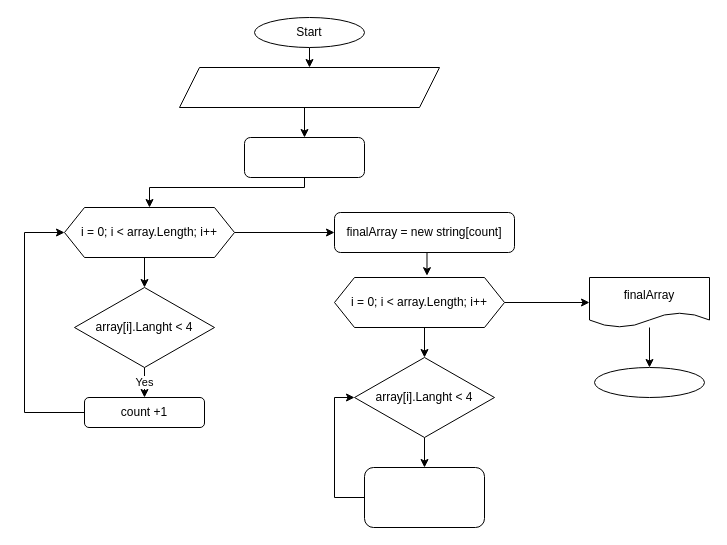
Image size: 727x545. Some labels were removed from this diagram. The shapes that lost their labels are listed below. From the top down, each one's centre as x and y in pixels, then its label:
[309,87]: CreatArray [string a, string b ..., string n]
[304,157]: index = 0 count = 0
[649,382]: End
[424,497]: finalArray[index] = arrray[i] index + 1
